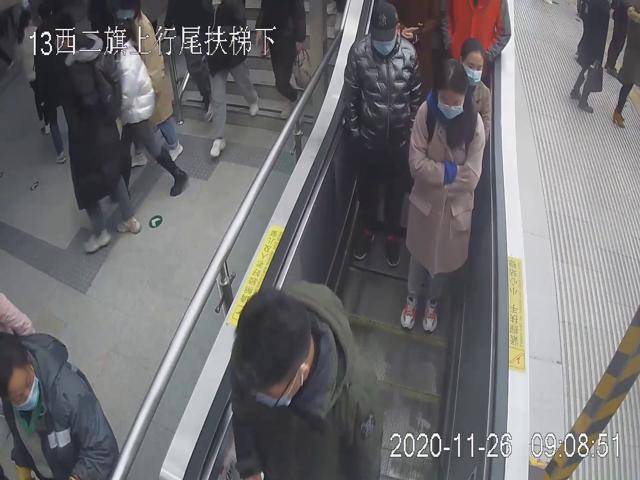person: (227, 276, 387, 480), (398, 59, 486, 332), (342, 0, 422, 268), (452, 36, 494, 145)
